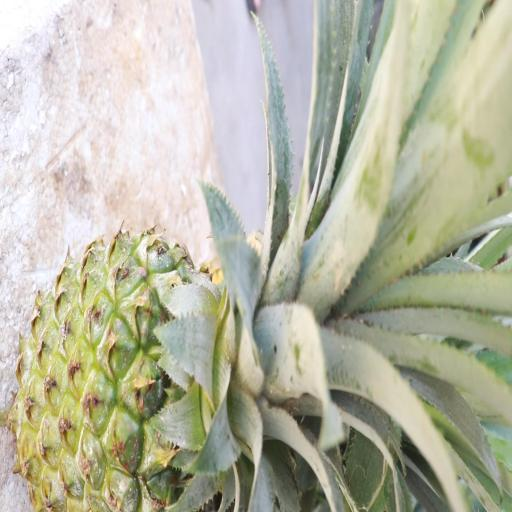------------------------------: (14, 247, 297, 511)
